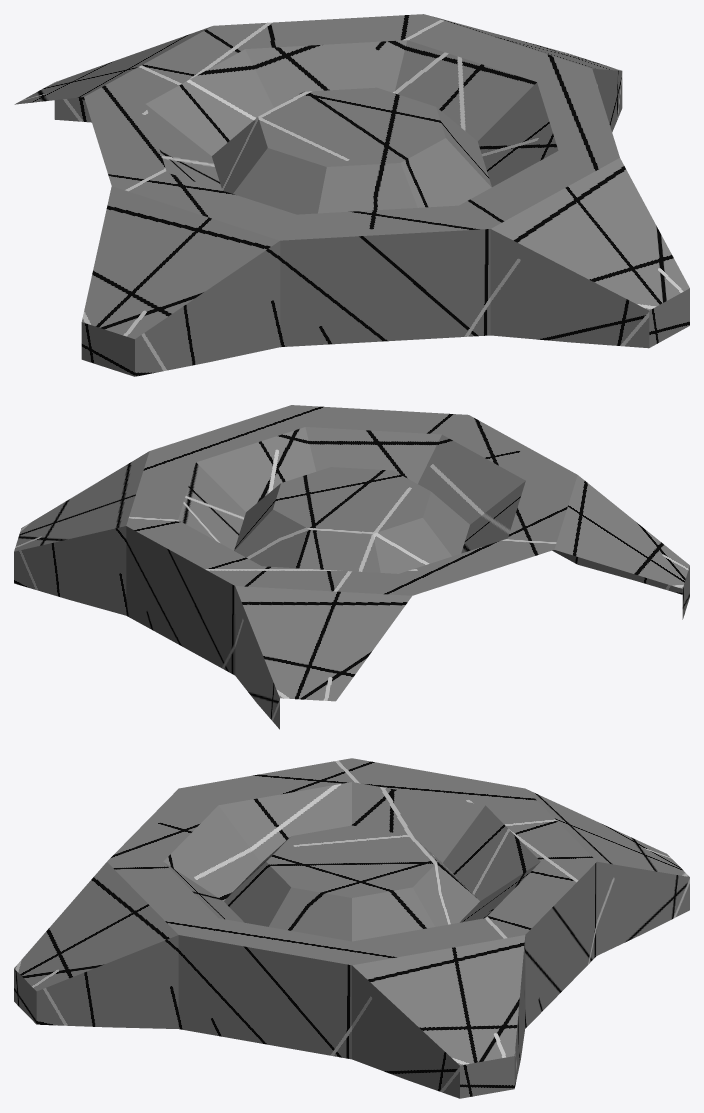
The model's file is teleport.fbx.
3 renders of one model, top to bottom at view 1: azimuth 30°, elevation 25°; view 2: azimuth 150°, elevation 25°; view 3: azimuth 270°, elevation 25°, orthographic. The views are drawn at different scales.
Parts seen in each view (by area): view 1: Teleporter; view 2: Teleporter; view 3: Teleporter.
Boxes of the visible parts, bbox=[...] form: Teleporter: bbox=[14, 14, 689, 376]; Teleporter: bbox=[14, 405, 689, 729]; Teleporter: bbox=[14, 758, 689, 1098].
Size of the model in its own units: 2.76 by 0.4245 by 2.76.
Materials: 1 (1 with a texture image).
